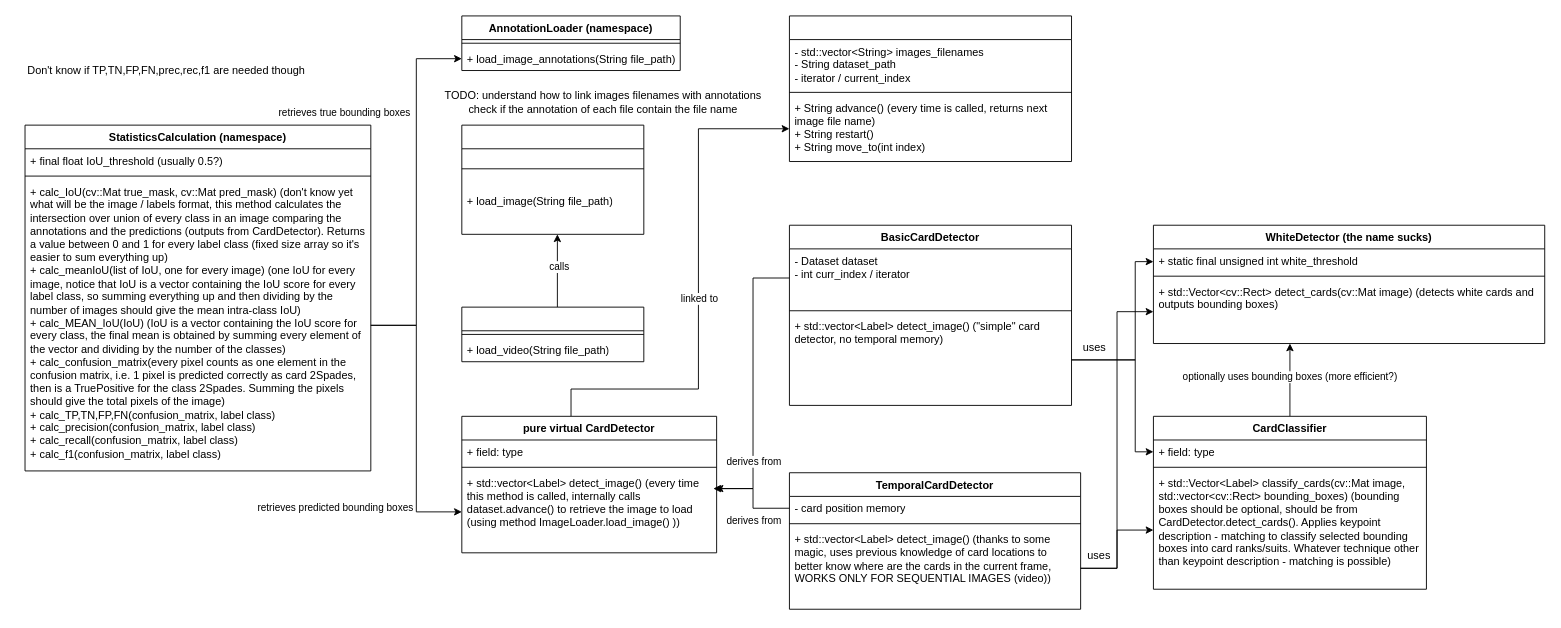
This 1561x628 diagram has some shape labels left out. The shapes that lost their labels are listed below. From the top down, each one's box as (x1, y1, x2, y2) in pixels, then its label:
(789, 15, 1072, 162): Dataset (collection of images' file names)
(461, 124, 644, 234): ImageLoader (namespace)
(461, 306, 644, 362): VideoLoader (namespace)
